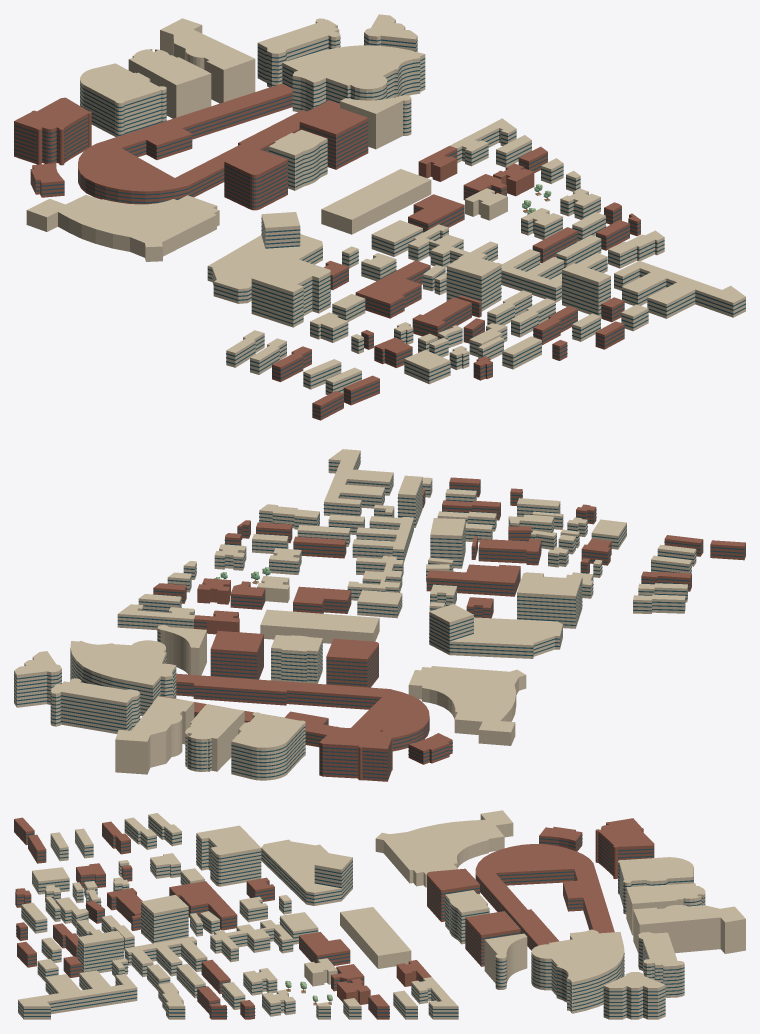
The picture shows the model from 3 angles, top to bottom: view 1: azimuth 30°, elevation 25°; view 2: azimuth 150°, elevation 25°; view 3: azimuth 270°, elevation 25°; orthographic projection. The views are drawn at different scales.
Parts seen in each view (by area): view 1: osm-relation-13024713, osm-way-967835498, osm-relation-13024714, osm-way-1427893973, osm-way-522348478, osm-way-967835567, osm-relation-13024717.003, osm-way-1235755000, osm-way-1427894011, osm-way-967835535, osm-relation-13024718, osm-way-967835538 (+43 smaller); view 2: osm-relation-13024713, osm-way-967835498, osm-relation-13024714, osm-way-967835567, osm-way-1427894011, osm-relation-13024717.003, osm-way-1427893973, osm-way-522348478, osm-way-1235755000, osm-way-967835538, osm-way-967835536, osm-way-967835535 (+43 smaller); view 3: osm-relation-13024713, osm-way-967835498, osm-relation-13024714, osm-way-967835567, osm-way-1427893973, osm-way-522348478, osm-way-1427894011, osm-way-1235755000, osm-relation-13024721.001, osm-way-1427893988, osm-way-1427894039, osm-relation-13024716.002 (+57 smaller).
Part boxes in pixels (left/top/right/bottom): osm-relation-13024713: left=78, top=83, right=339, bottom=204; osm-way-967835498: left=26, top=195, right=219, bottom=261; osm-relation-13024714: left=282, top=45, right=425, bottom=111; osm-way-1427893973: left=614, top=260, right=745, bottom=318; osm-way-522348478: left=251, top=257, right=330, bottom=327; osm-way-967835567: left=160, top=18, right=255, bottom=103; osm-relation-13024717.003: left=80, top=63, right=160, bottom=136; osm-way-1235755000: left=321, top=169, right=431, bottom=234; osm-way-1427894011: left=207, top=234, right=322, bottom=303; osm-way-967835535: left=224, top=147, right=287, bottom=210; osm-relation-13024718: left=128, top=55, right=211, bottom=118; osm-way-967835538: left=299, top=105, right=368, bottom=169; osm-relation-13024713: left=160, top=673, right=429, bottom=751; osm-way-967835498: left=408, top=666, right=526, bottom=745; osm-relation-13024714: left=70, top=641, right=176, bottom=715; osm-way-967835567: left=115, top=696, right=194, bottom=774; osm-way-1427894011: left=429, top=617, right=562, bottom=658; osm-relation-13024717.003: left=231, top=713, right=303, bottom=780; osm-way-1427893973: left=323, top=449, right=393, bottom=516; osm-way-522348478: left=517, top=572, right=582, bottom=628; osm-way-1235755000: left=260, top=609, right=379, bottom=643; osm-way-967835538: left=210, top=631, right=263, bottom=679; osm-way-967835536: left=271, top=635, right=322, bottom=683; osm-way-967835535: left=326, top=638, right=378, bottom=687; osm-relation-13024713: left=475, top=844, right=614, bottom=950; osm-way-967835498: left=375, top=810, right=513, bottom=887; osm-relation-13024714: left=549, top=929, right=624, bottom=1013; osm-way-967835567: left=633, top=905, right=745, bottom=953; osm-way-1427893973: left=18, top=970, right=137, bottom=1019; osm-way-522348478: left=196, top=825, right=261, bottom=886; osm-way-1427894011: left=261, top=839, right=352, bottom=905; osm-way-1235755000: left=340, top=907, right=411, bottom=968; osm-relation-13024721.001: left=603, top=976, right=665, bottom=1019; osm-way-1427893988: left=210, top=920, right=293, bottom=962; osm-way-1427894039: left=141, top=895, right=188, bottom=943; osm-relation-13024716.002: left=598, top=824, right=654, bottom=878.
Bounding box in the file's own units: 478 × 36 × 754.
